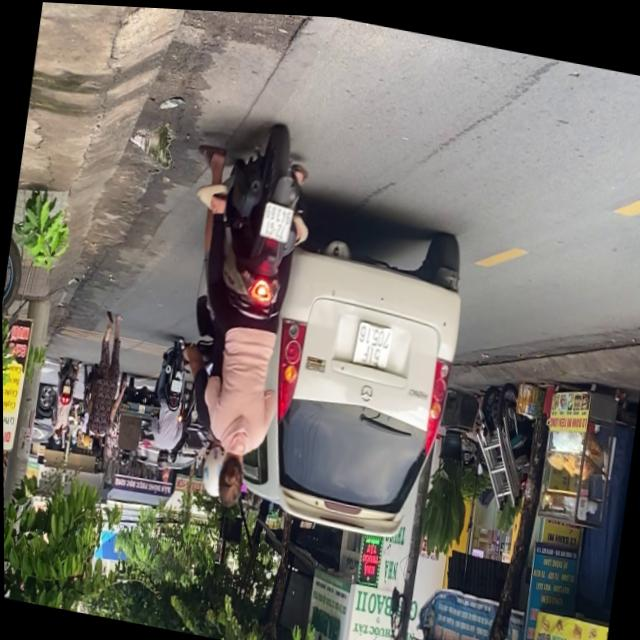helmet: (198, 438, 226, 497)
licenseplate: (155, 108, 324, 517)
motorcyclist: (213, 447, 248, 507)
nohelmet: (258, 197, 293, 241)
